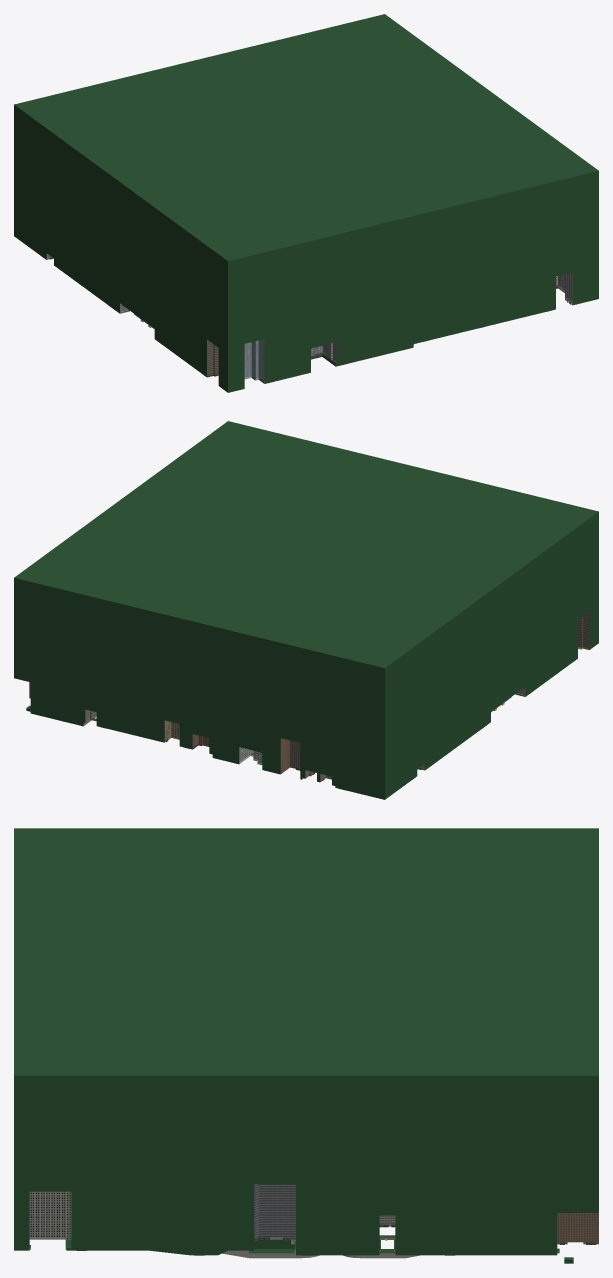
Rendered from goldencity.glb.
The picture shows the model from 3 angles, top to bottom: view 1: azimuth 30°, elevation 25°; view 2: azimuth 150°, elevation 25°; view 3: azimuth 270°, elevation 25°; orthographic projection. The views are drawn at different scales.
Parts seen in each view (by area): view 1: world_geometry_0; view 2: world_geometry_0; view 3: world_geometry_0.
Part boxes in pixels (box(x1,y1,x2,y2)): world_geometry_0: box(14, 14, 598, 392); world_geometry_0: box(14, 421, 598, 799); world_geometry_0: box(14, 828, 598, 1263).
Bounding box in the file's own units: 546 × 284 × 546.
Materials: 97 (93 with a texture image).
